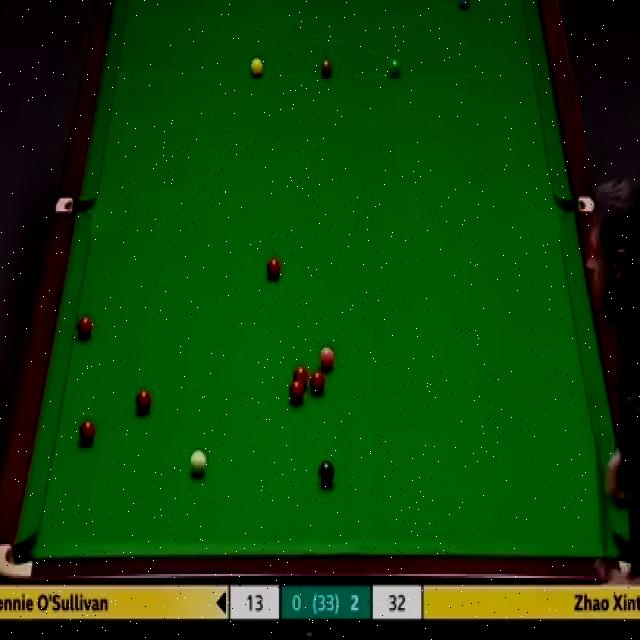black-ball: (318, 459, 335, 487)
blue-ball: (455, 0, 471, 11)
brown-ball: (319, 58, 334, 80)
green-ball: (388, 58, 402, 80)
pink-ball: (315, 347, 335, 372)
red-ball: (78, 418, 97, 448), (134, 390, 152, 418), (265, 256, 283, 282), (288, 380, 305, 406), (308, 370, 326, 394), (76, 314, 92, 340), (292, 366, 309, 388)
white-ball: (187, 447, 207, 480)
yellow-ball: (250, 57, 264, 79)
